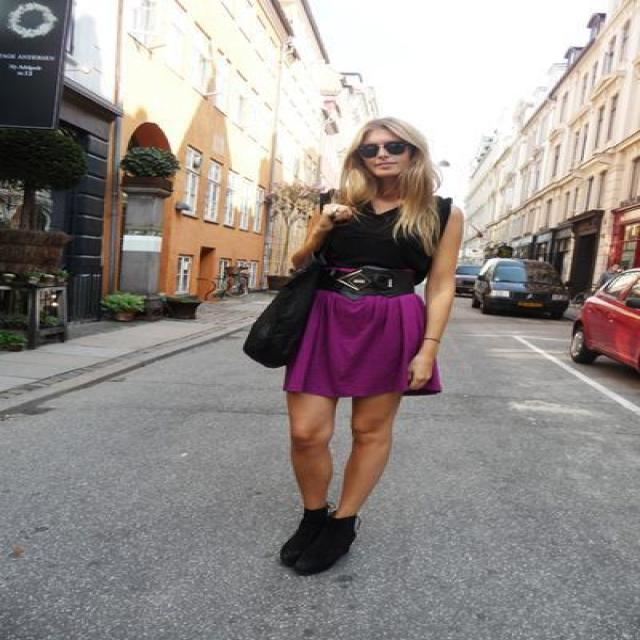bag: (243, 269, 325, 370)
shirt: (314, 200, 432, 278)
shoe: (280, 504, 357, 575)
skirt: (283, 294, 440, 413)
